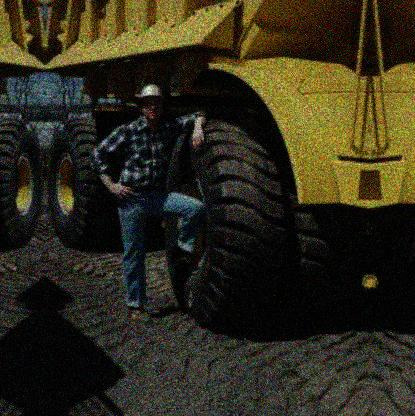helmet: (136, 83, 166, 125)
